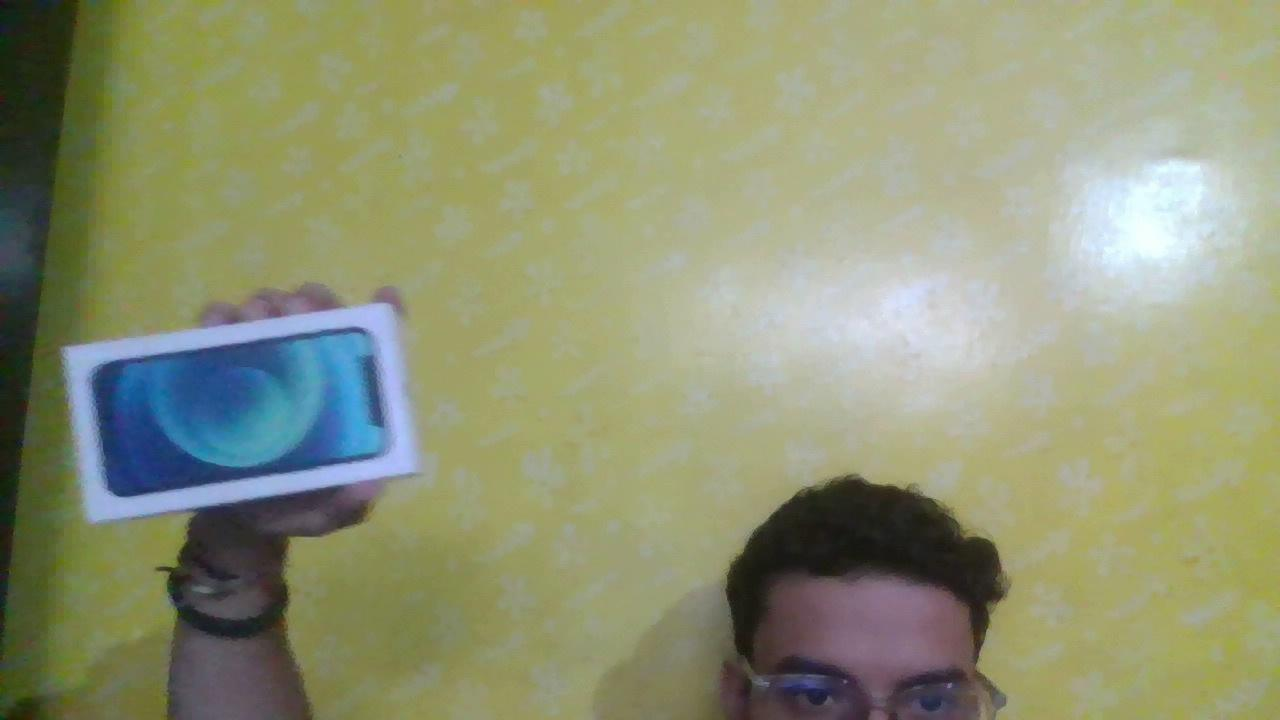Phone: (47, 285, 424, 546)
